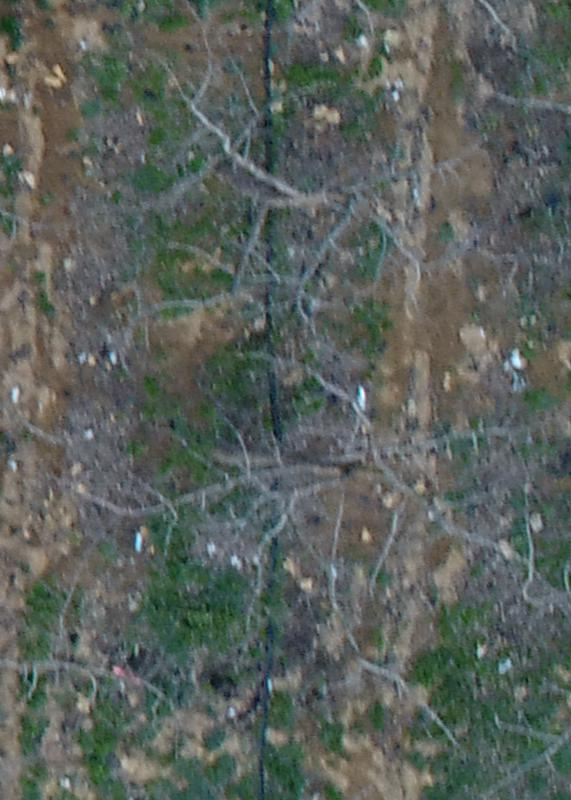apple: (87, 392, 542, 683), (108, 32, 449, 371)
